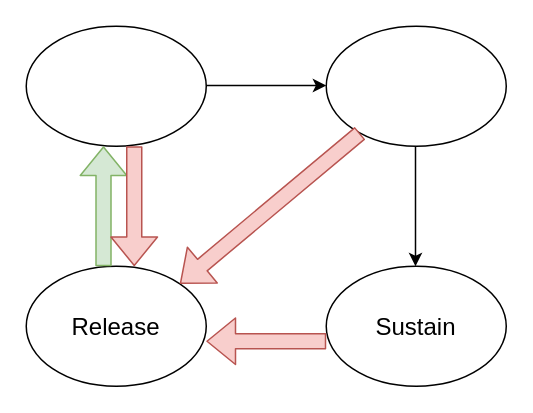
This 533x413 diagram has some shape labels left out. The centre of each missing label's shape, as x and y in pixels:
Attack: point 115,85
Decay: point 415,85
